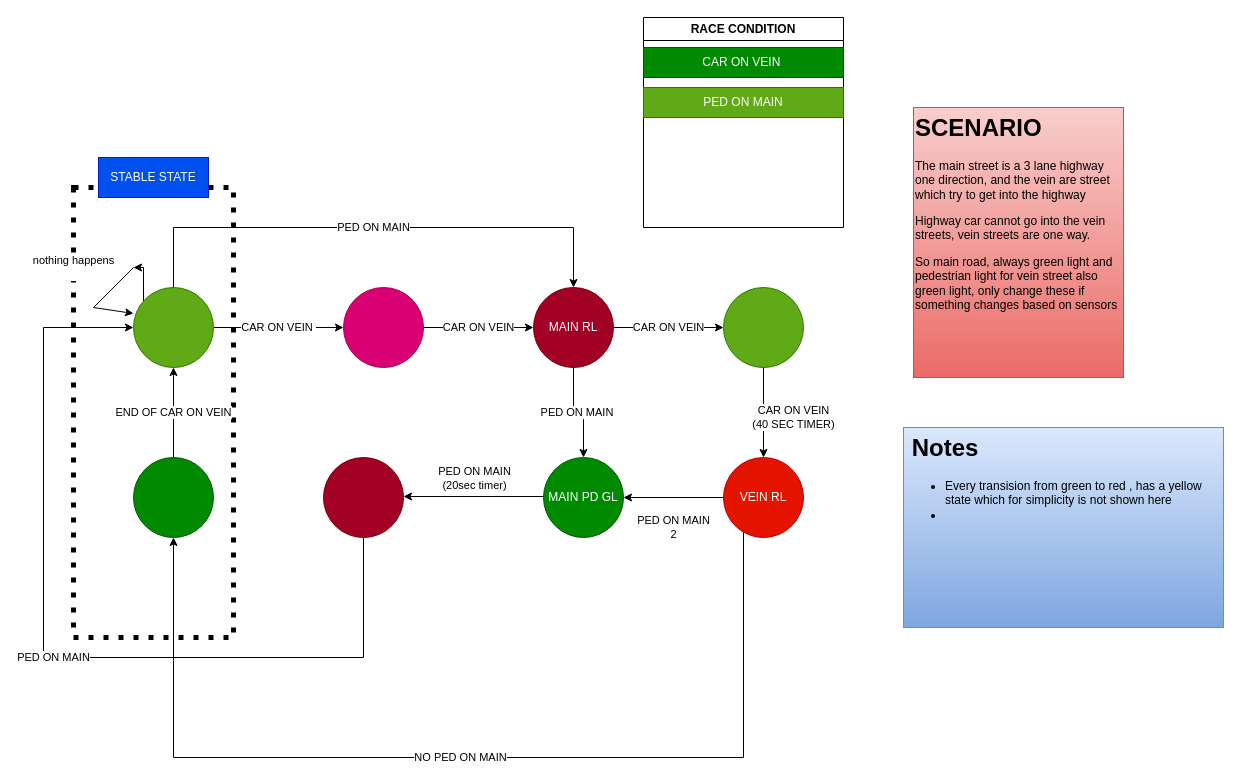
Some shapes in this 1241 by 783 pixel diagram are drawn without their labels. The shapes that lost their labels are listed below. From the top down, each one's centre as x and y in pixels, then its label:
At point 173,327: "MAIN GL".
At point 383,327: "VEIN PD RL".
At point 763,327: "VEIN GL".
At point 173,497: "VEIN PD GL".
At point 363,497: "MAIN PD RL".
